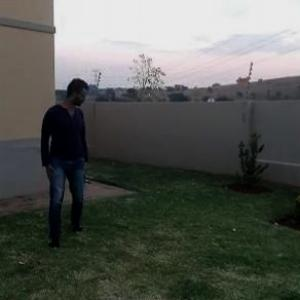follow: (35, 73, 94, 250)
